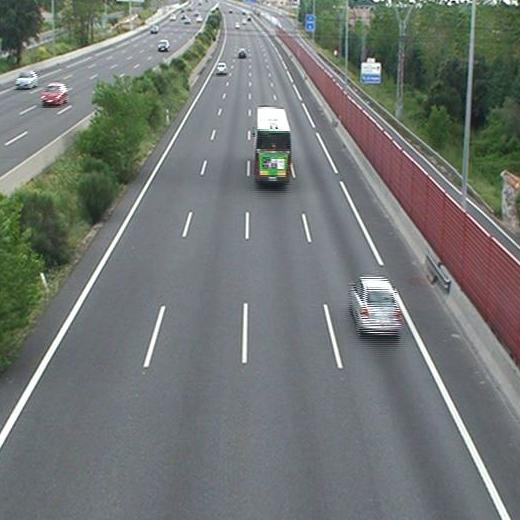bus: (254, 107, 291, 183)
car: (350, 277, 400, 335), (215, 63, 227, 74), (237, 49, 246, 58)
